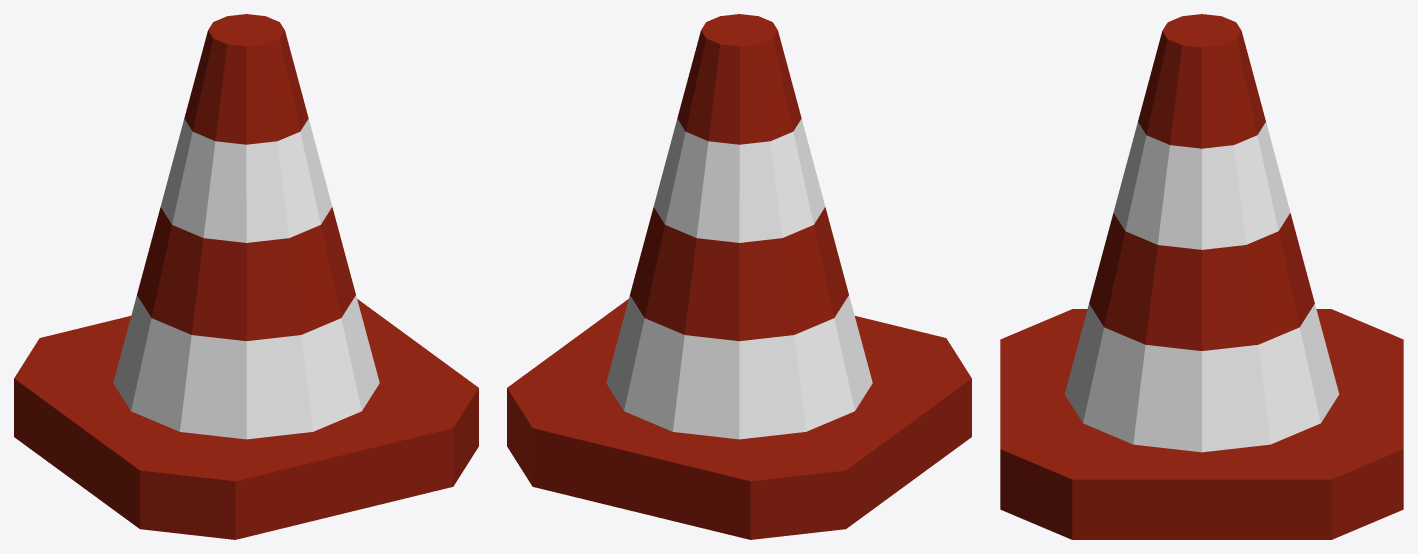
File: ds_traffic_cone.glb
The picture shows the model from 3 angles, left to right: view 1: azimuth 30°, elevation 25°; view 2: azimuth 150°, elevation 25°; view 3: azimuth 270°, elevation 25°; orthographic projection. The views are drawn at different scales.
Parts seen in each view (by area): view 1: Plane012; view 2: Plane012; view 3: Plane012.
Part boxes in pixels (x1,y1,x2,y2): Plane012: (14, 14, 478, 539); Plane012: (507, 14, 971, 539); Plane012: (1000, 14, 1403, 539).
Size of the model in its own units: 0.2969 by 0.3444 by 0.2969.
1 material, 1 textured.
